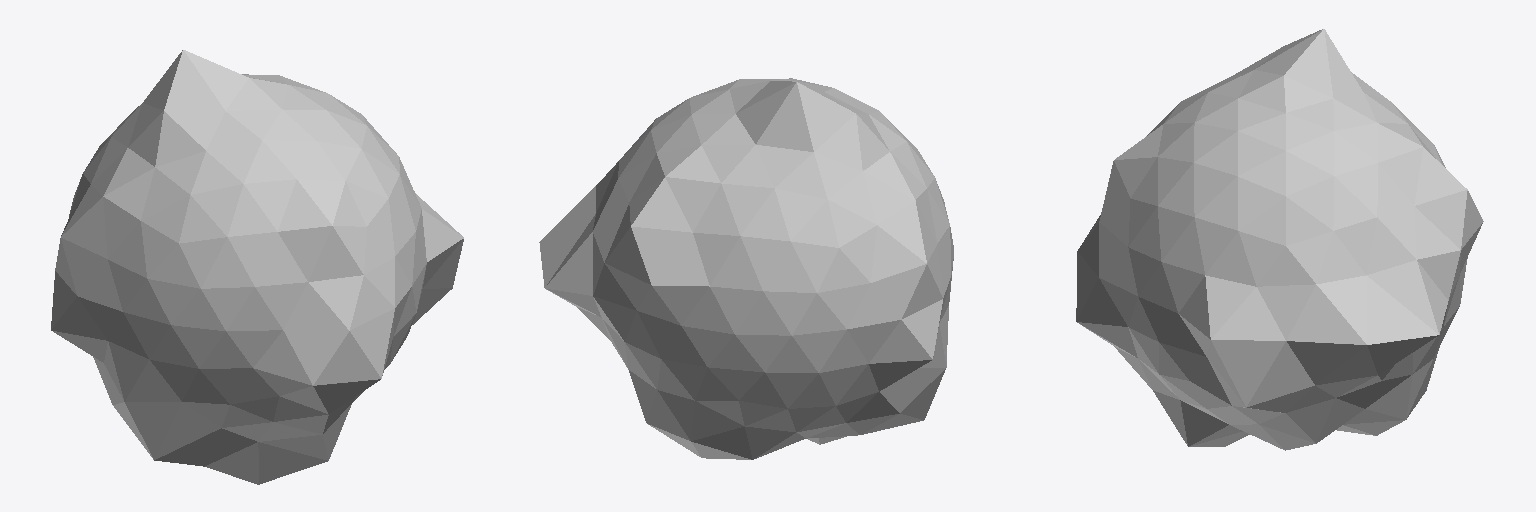
File: asteroid.obj
3 views of the same model, side by side, from view 1: azimuth 30°, elevation 25°; view 2: azimuth 150°, elevation 25°; view 3: azimuth 270°, elevation 25° (orthographic).
Parts seen in each view (by area): view 1: 08_-_Default; view 2: 08_-_Default; view 3: 08_-_Default.
Boxes of the visible parts, x1,y1,x2,y2 form: 08_-_Default: [51, 50, 463, 484]; 08_-_Default: [539, 78, 953, 459]; 08_-_Default: [1076, 29, 1483, 450].
Size of the model in its own units: 1.67 by 1.75 by 1.59.